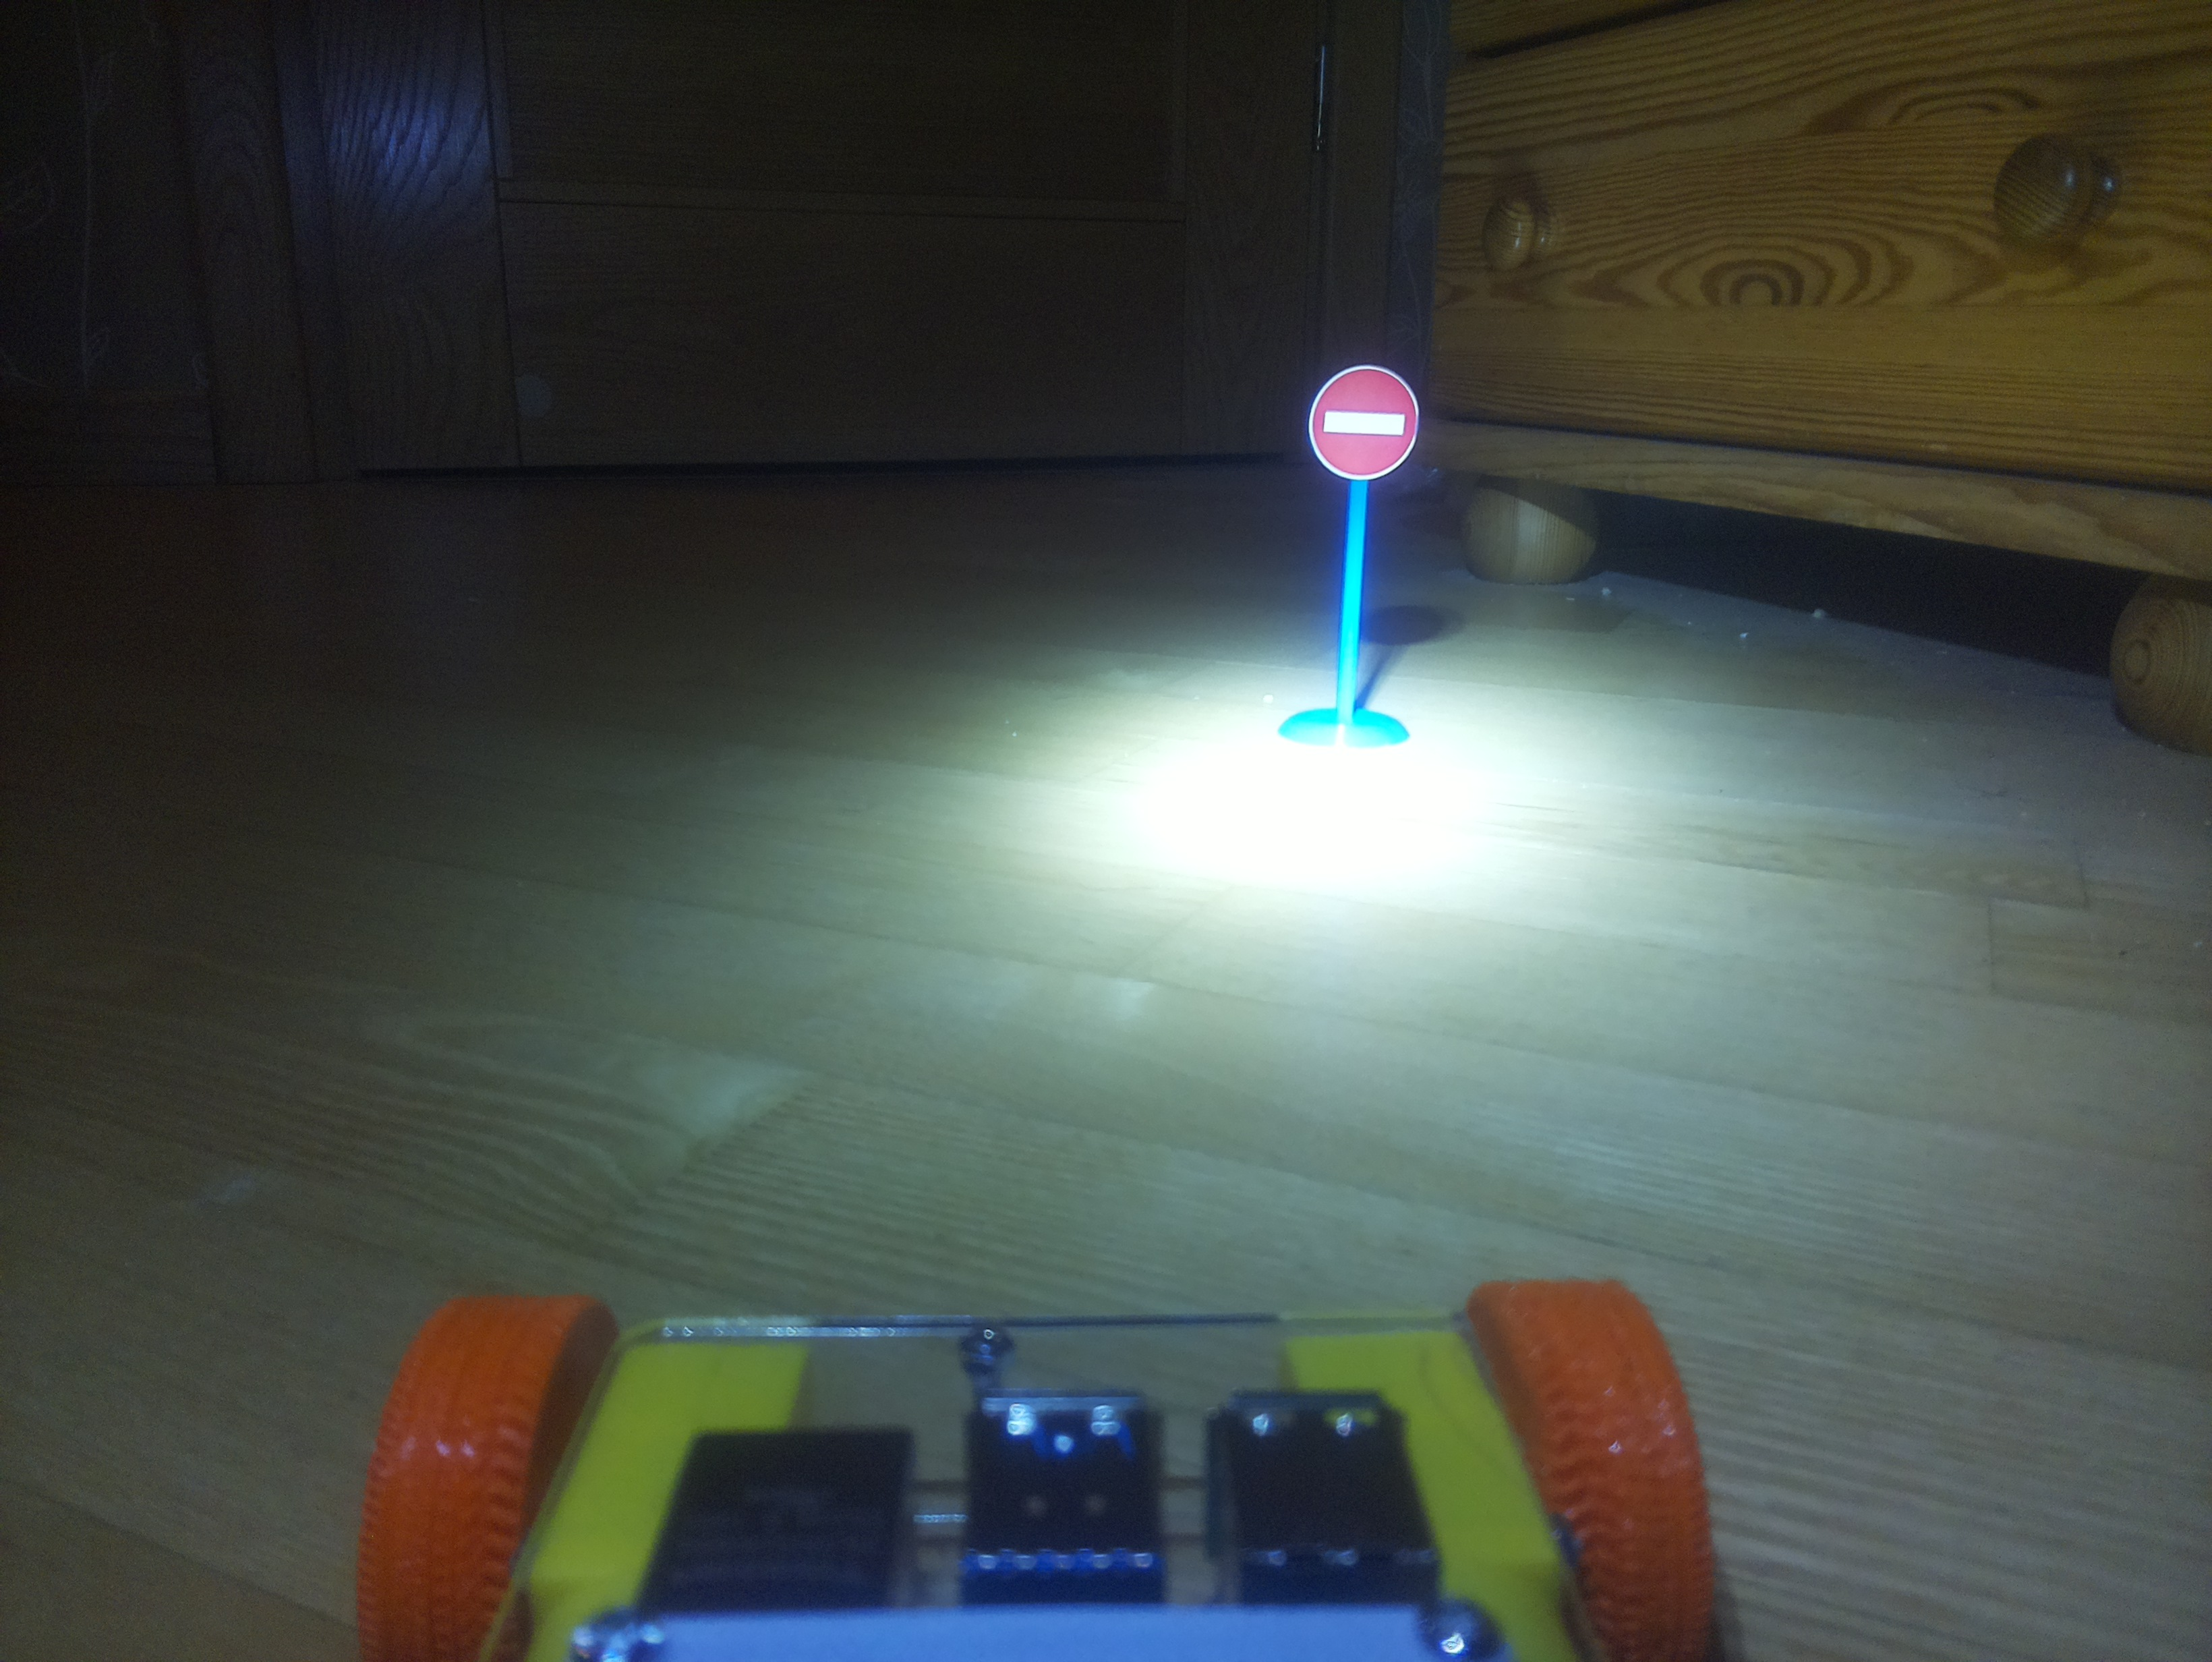brick: (1673, 544, 2182, 1042)
